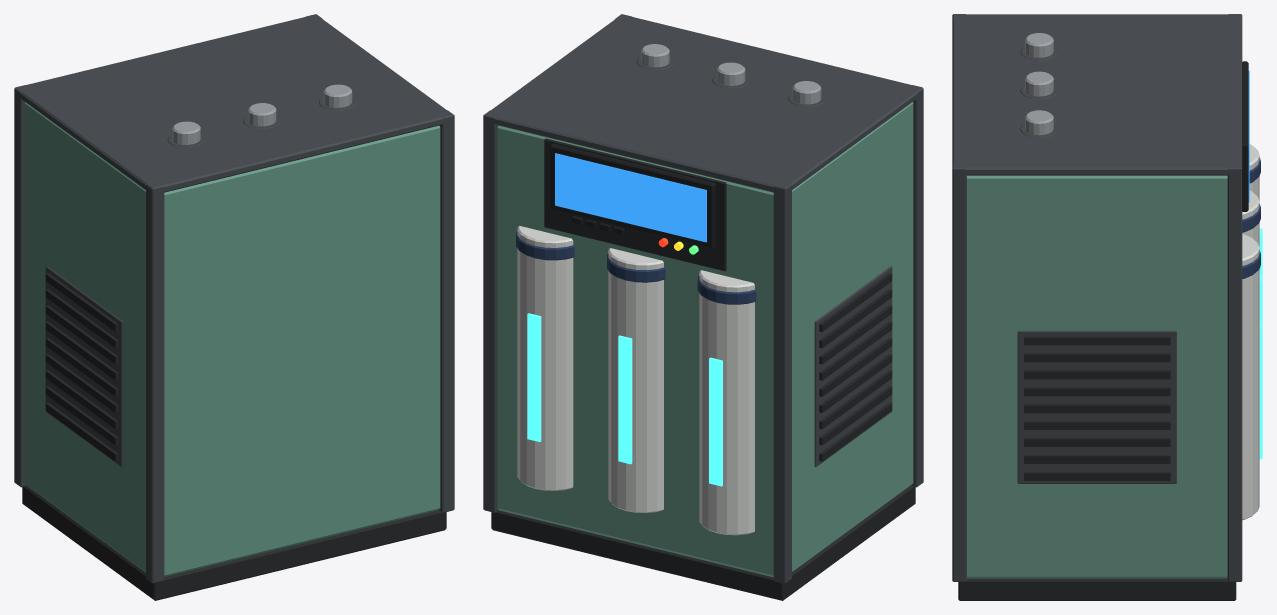
Rendered from oxygen_generator.glb.
3 renders of one model, left to right at view 1: azimuth 30°, elevation 25°; view 2: azimuth 150°, elevation 25°; view 3: azimuth 270°, elevation 25°, orthographic. The views are drawn at different scales.
Parts seen in each view (by area): view 1: oxygen_generator; view 2: oxygen_generator; view 3: oxygen_generator.
Part boxes in pixels (box(x1,y1,x2,y2)): oxygen_generator: box(14, 14, 454, 600); oxygen_generator: box(483, 14, 923, 600); oxygen_generator: box(952, 14, 1262, 600).
Size of the model in its own units: 1.2 by 1.6 by 1.
